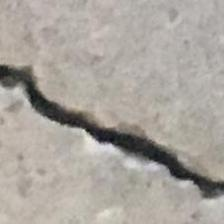Crack: (0, 54, 224, 204)
